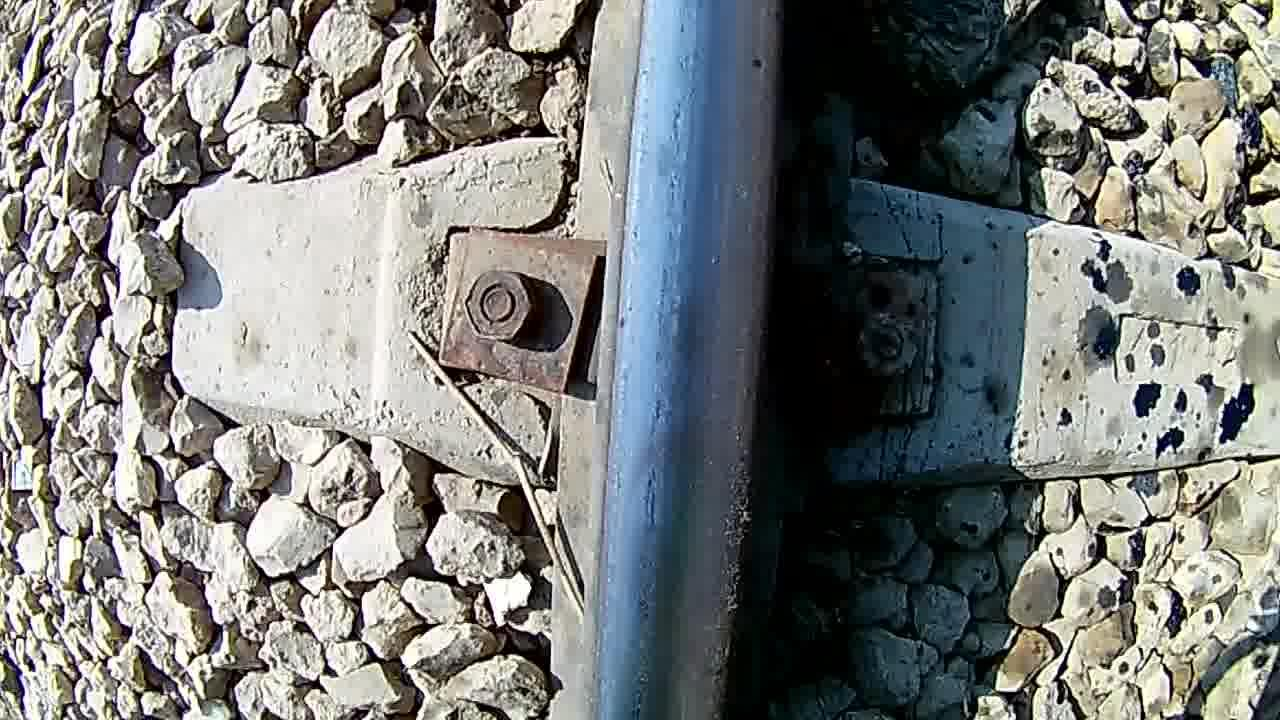crack: (628, 7, 772, 720)
